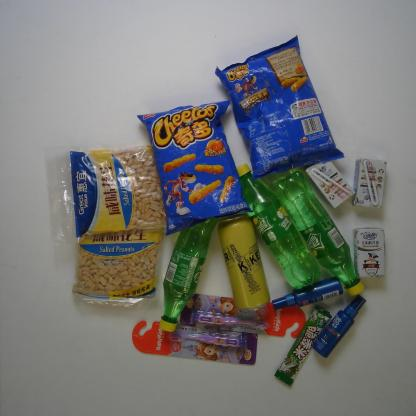Alcohol: (218, 213, 270, 311)
Chocolate: (274, 305, 332, 387)
Dried Fruit: (44, 141, 190, 250), (67, 179, 170, 308)
Drink: (274, 171, 365, 297), (235, 163, 321, 289), (159, 203, 220, 332)
Milk: (305, 156, 355, 209), (353, 158, 387, 209), (353, 227, 386, 279)
Personal Hygiene: (179, 293, 307, 338), (132, 320, 258, 365), (312, 295, 367, 358), (272, 276, 344, 310)
Puffed Food: (216, 34, 346, 182), (137, 99, 254, 237)
